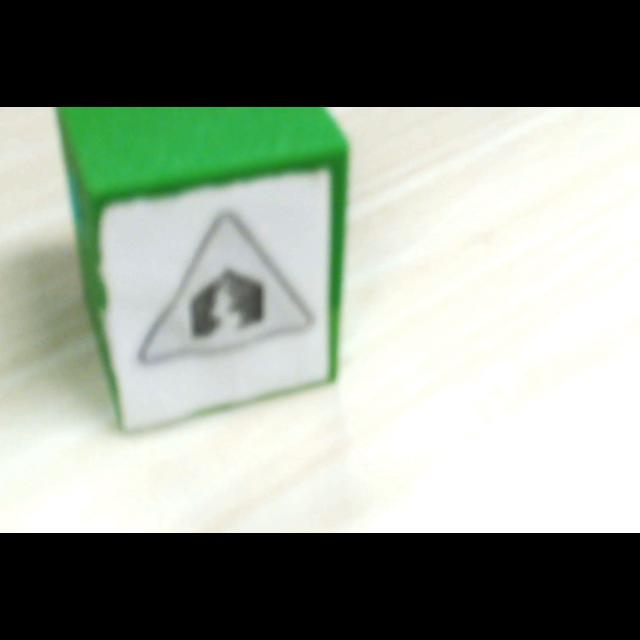Earthquake: (139, 211, 314, 364)
